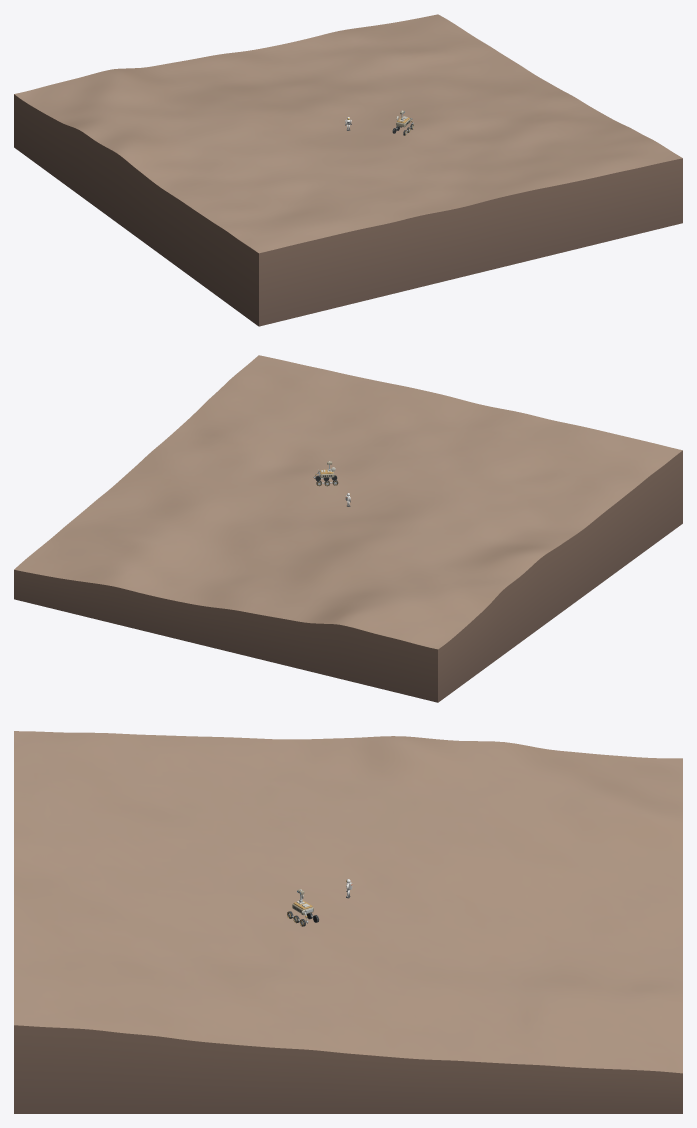
File: dock.glb
3 views of the same model, one above another, from view 1: azimuth 30°, elevation 25°; view 2: azimuth 150°, elevation 25°; view 3: azimuth 270°, elevation 25° (orthographic). The views are drawn at different scales.
Visible parts, largest first — view 1: dock; view 2: dock; view 3: dock.
Part boxes in pixels (x1,y1,x2,y2): dock: [14, 14, 682, 326]; dock: [14, 355, 682, 702]; dock: [14, 731, 682, 1113].
Size of the model in its own units: 59.94 by 10.59 by 59.94.
